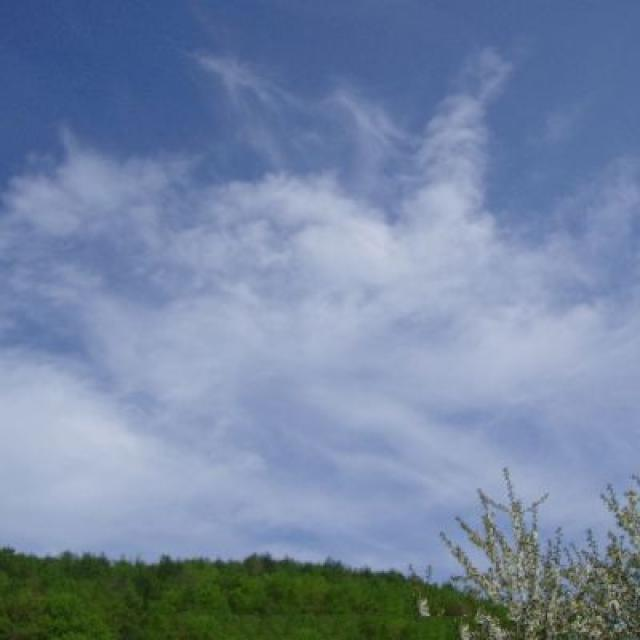Ci: (1, 34, 640, 442)
